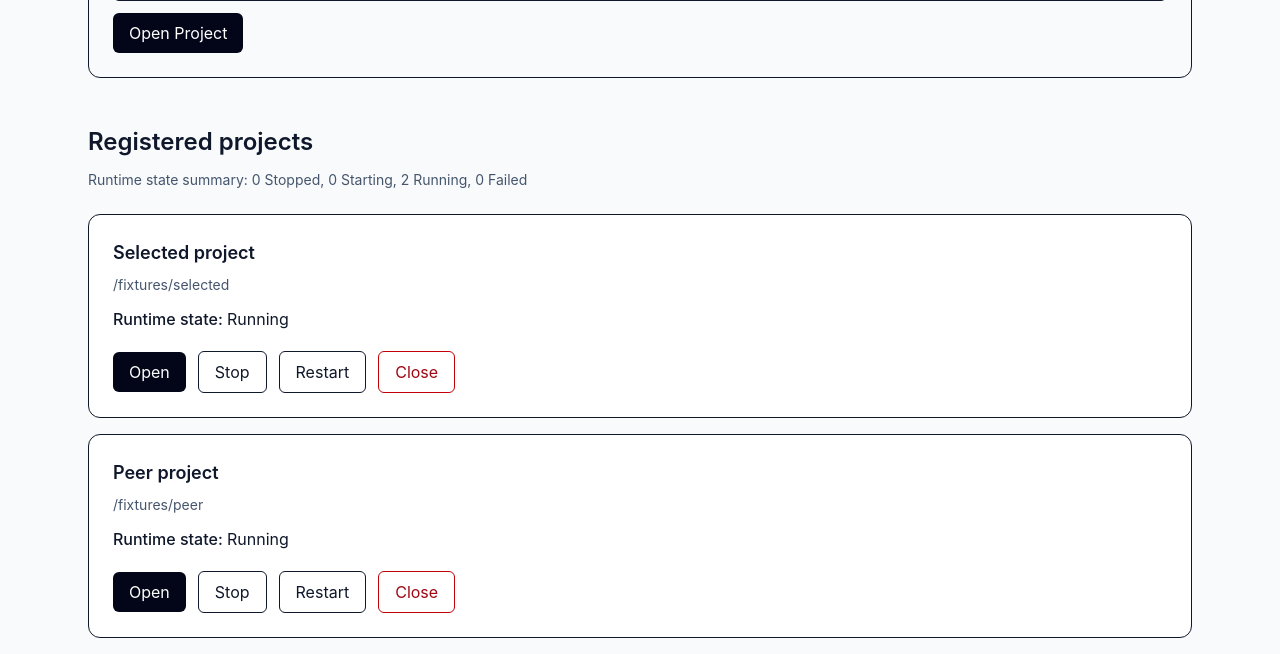
Scenario: BL-018 scenario 14: home-restart-accessibility-and-focus › announces the client-owned invalid_project_id rejection in an alert with Retry and discloses nothing protected
(page scrolled)
Expected: the text labelled "Runtime state summary" is shown, [88,171,527,188]
Click the button with aria-label "Restart Selected project workbench".
click(322, 372)  # box [278,351,366,393]
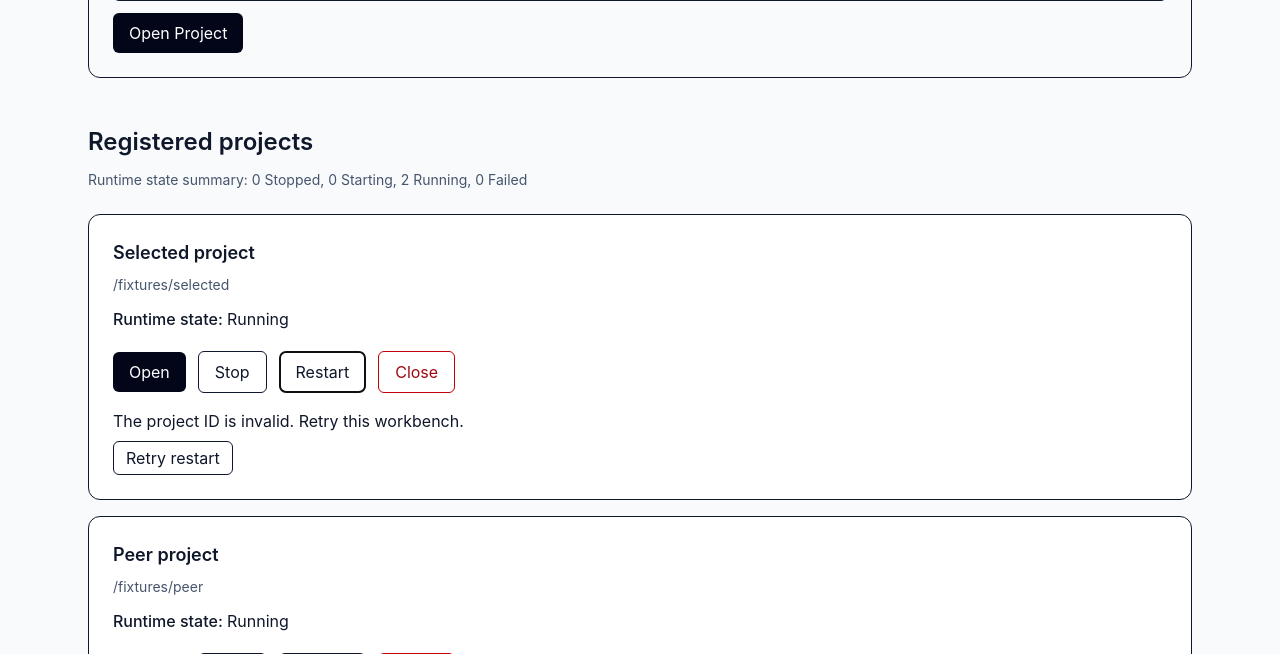
Expected: the message shows "The project ID is invalid. Retry this workbench.", [113,411,464,431]
Expected: the button "Retry restart" is shown, [113,441,233,475]
